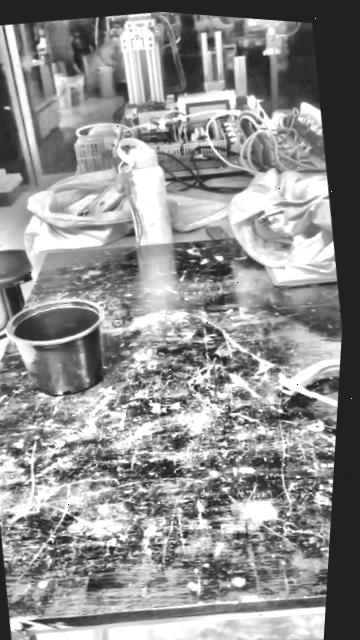pot: (0, 291, 114, 405)
